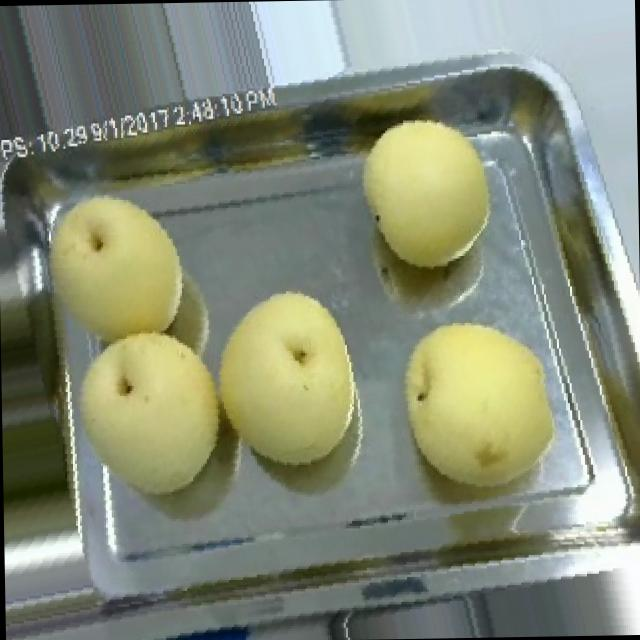Fruit: (380, 296, 578, 507), (193, 272, 377, 488), (60, 312, 241, 516), (22, 176, 205, 367), (342, 96, 516, 287)
